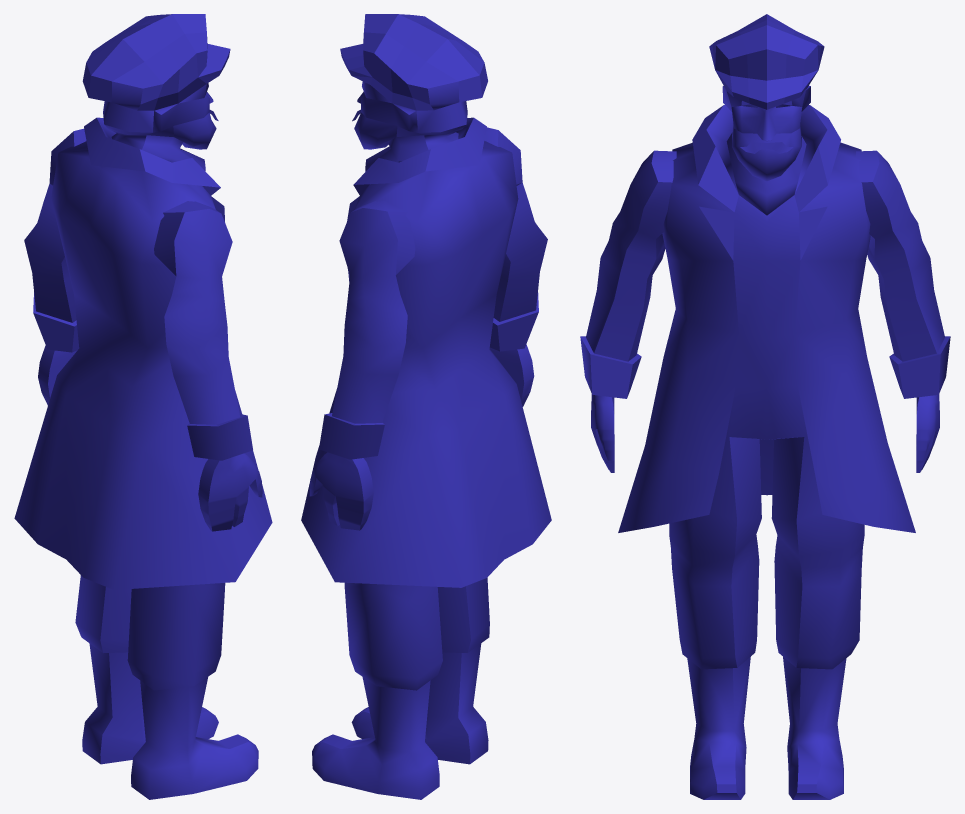
File: Keeper(1).fbx
3 renders of one model, left to right at view 1: azimuth 30°, elevation 25°; view 2: azimuth 150°, elevation 25°; view 3: azimuth 270°, elevation 25°, orthographic.
Visible parts, largest first — view 1: Keeper2.0; view 2: Keeper2.0; view 3: Keeper2.0.
Boxes of the visible parts, left/top/right/bottom form: Keeper2.0: left=14, top=14, right=272, bottom=799; Keeper2.0: left=301, top=14, right=551, bottom=799; Keeper2.0: left=580, top=14, right=950, bottom=799.
Bounding box in the file's own units: 0.4907 × 2.02 × 0.904.
